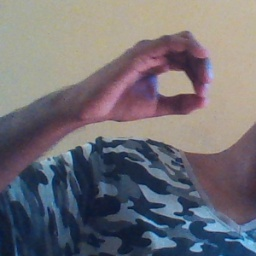O: (88, 26, 221, 126)
